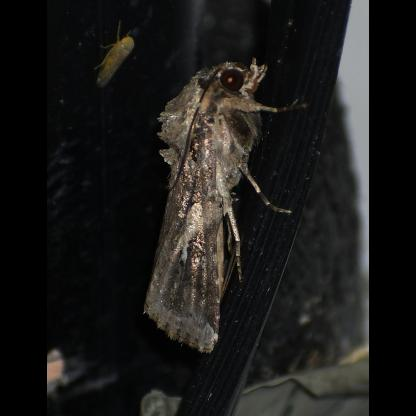Fall Armyworm Moth: (140, 55, 314, 360)
